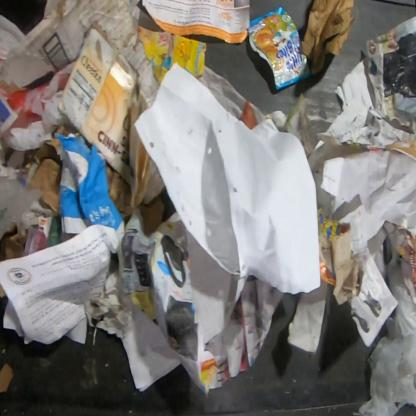cardboard: (56, 22, 152, 212), (0, 0, 160, 108), (318, 206, 364, 306), (134, 25, 208, 87), (302, 0, 356, 77), (0, 176, 44, 262), (24, 136, 67, 216), (105, 166, 132, 218), (139, 194, 166, 237), (55, 121, 80, 137), (0, 282, 8, 300)
soft_plastic: (357, 227, 416, 416), (0, 61, 76, 166), (249, 6, 312, 90)
